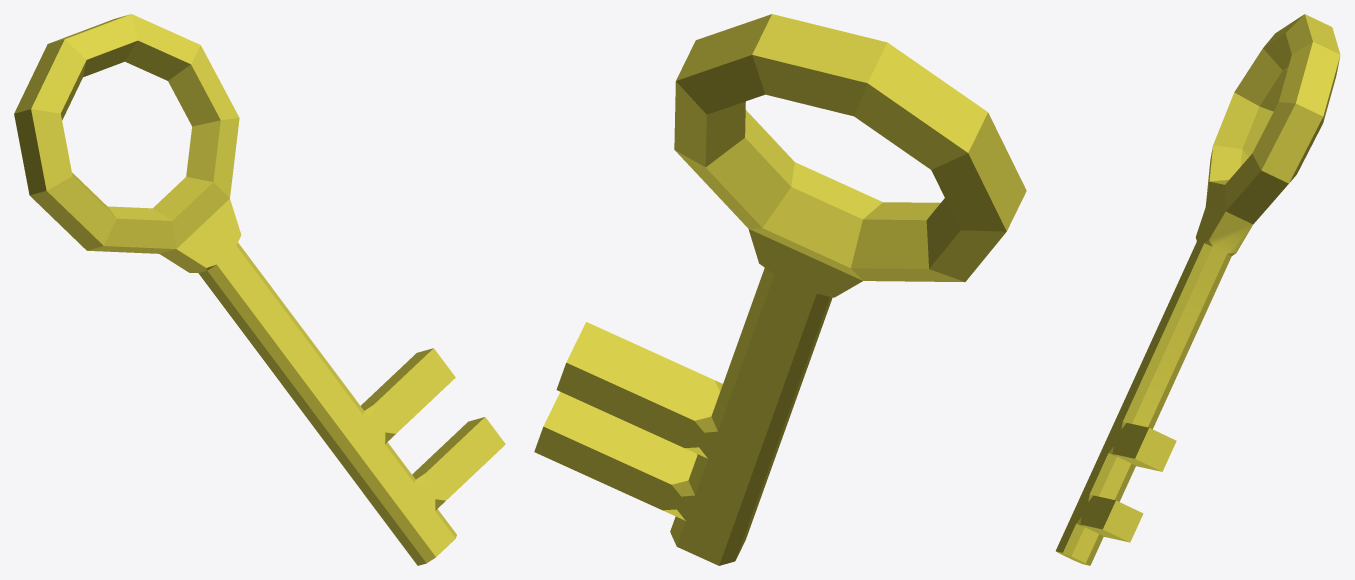
Rendered from key.fbx.
3 renders of one model, left to right at view 1: azimuth 30°, elevation 25°; view 2: azimuth 150°, elevation 25°; view 3: azimuth 270°, elevation 25°, orthographic. The views are drawn at different scales.
Visible parts, largest first — view 1: pTorus1; view 2: pTorus1; view 3: pTorus1.
Boxes of the visible parts, <box> form: pTorus1: <box>14,14,505,565</box>; pTorus1: <box>534,14,1026,565</box>; pTorus1: <box>1056,14,1340,565</box>.
Bounding box in the file's own units: 379 × 463 × 265.
